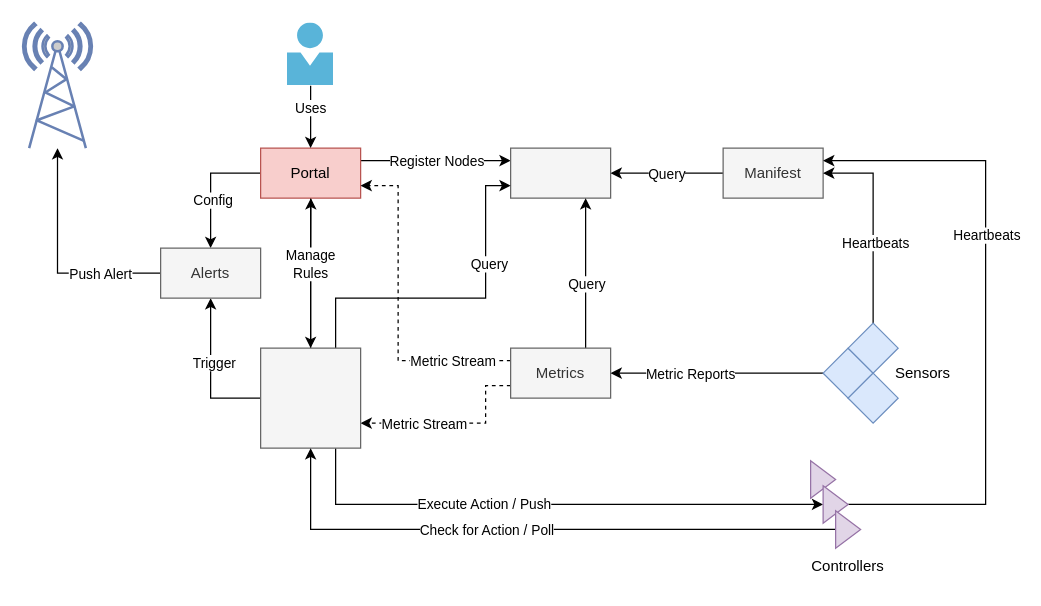
This 1041x606 diagram has some shape labels left out. The centre of each missing label's shape, as x and y in pixels:
Registrar: pixel 560 172
Rule Manager: pixel 310 397
